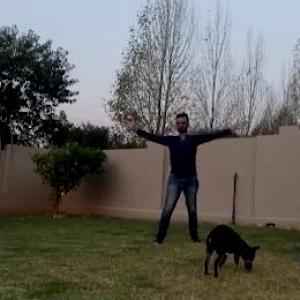takeoff: (130, 107, 258, 253)
